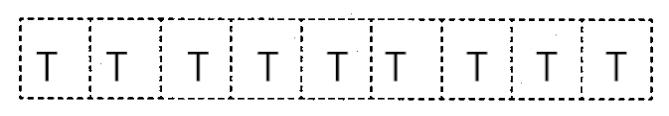T: (598, 45, 634, 86), (380, 45, 414, 87), (530, 43, 562, 86), (30, 47, 64, 87), (460, 44, 492, 86), (321, 44, 352, 86), (251, 45, 284, 84), (100, 45, 130, 86), (183, 47, 215, 85)
